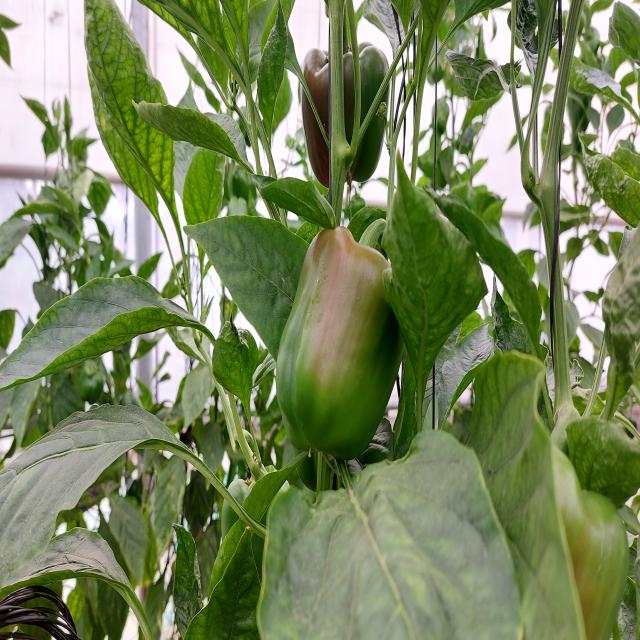BrownishRed--Can-be-Harvested: (282, 228, 414, 472), (302, 47, 402, 177)
